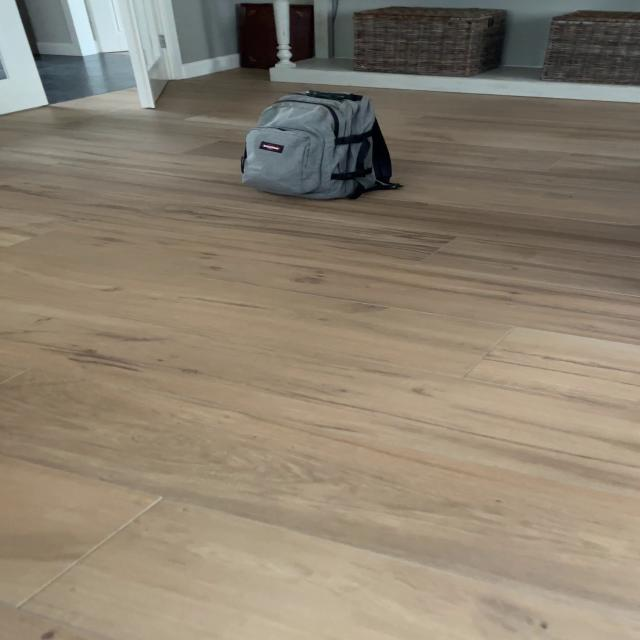backpack: (233, 84, 397, 204)
